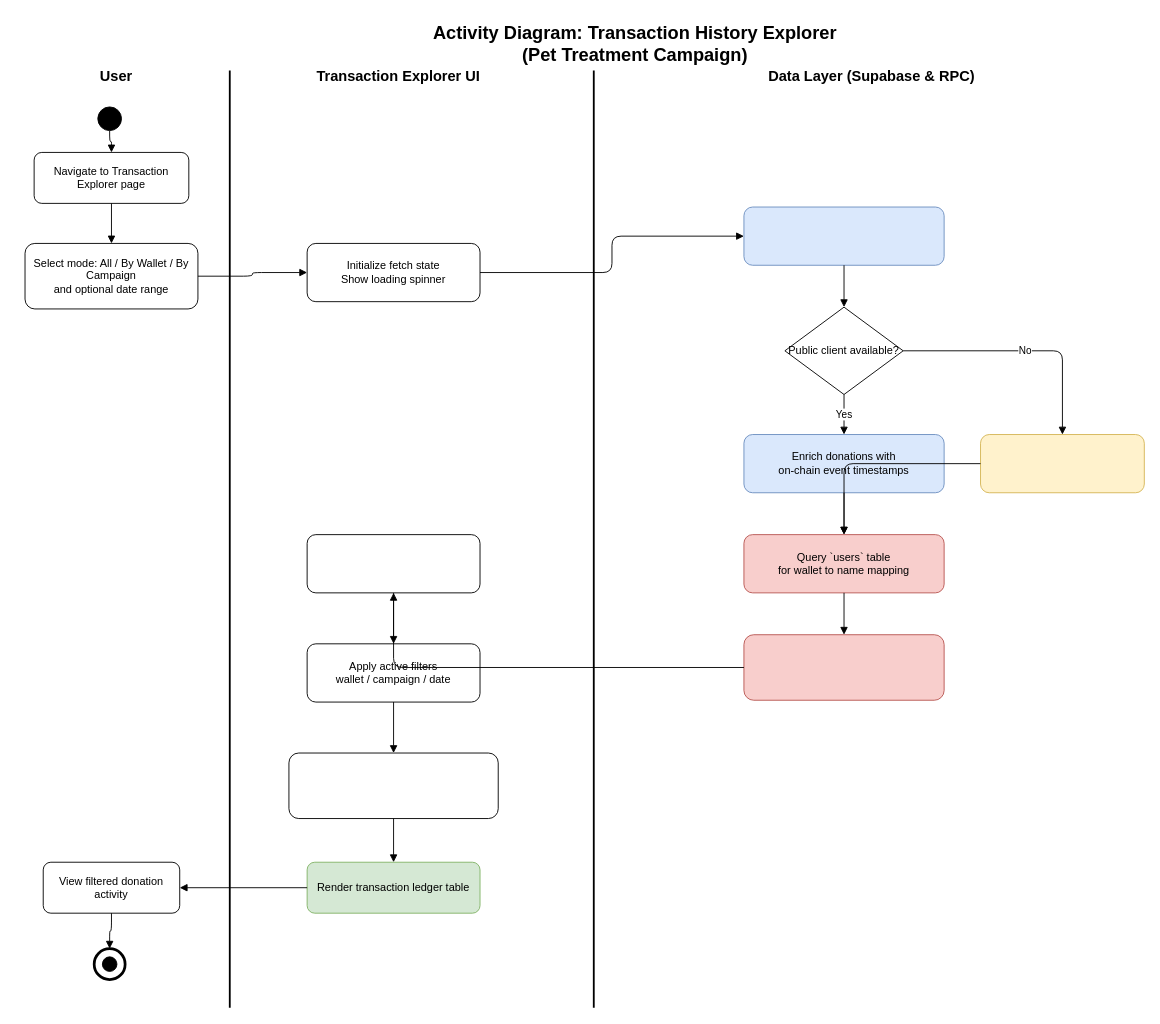
Image size: 1160x1024. Some labels were removed from this diagram. Each missing label, with the box of its shape:
Calculate metrics platform volume, tx count, unique donors, top donation: (288, 752, 498, 819)
Fallback to database `created_at` timestamp: (980, 434, 1144, 493)
Load campaign titles via CampaignFactory hook + `campaigns` data: (743, 634, 944, 700)
Merge rows with names, titles, and final timestamps: (306, 534, 480, 593)
Query `donations` table ordered by newest first: (743, 206, 944, 265)
